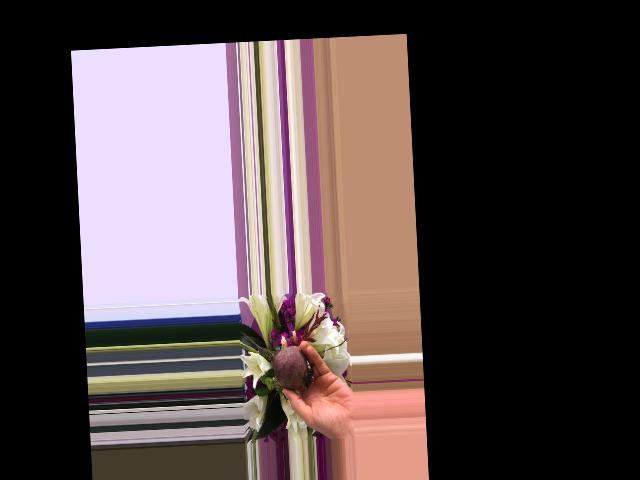beet: (241, 327, 314, 392)
